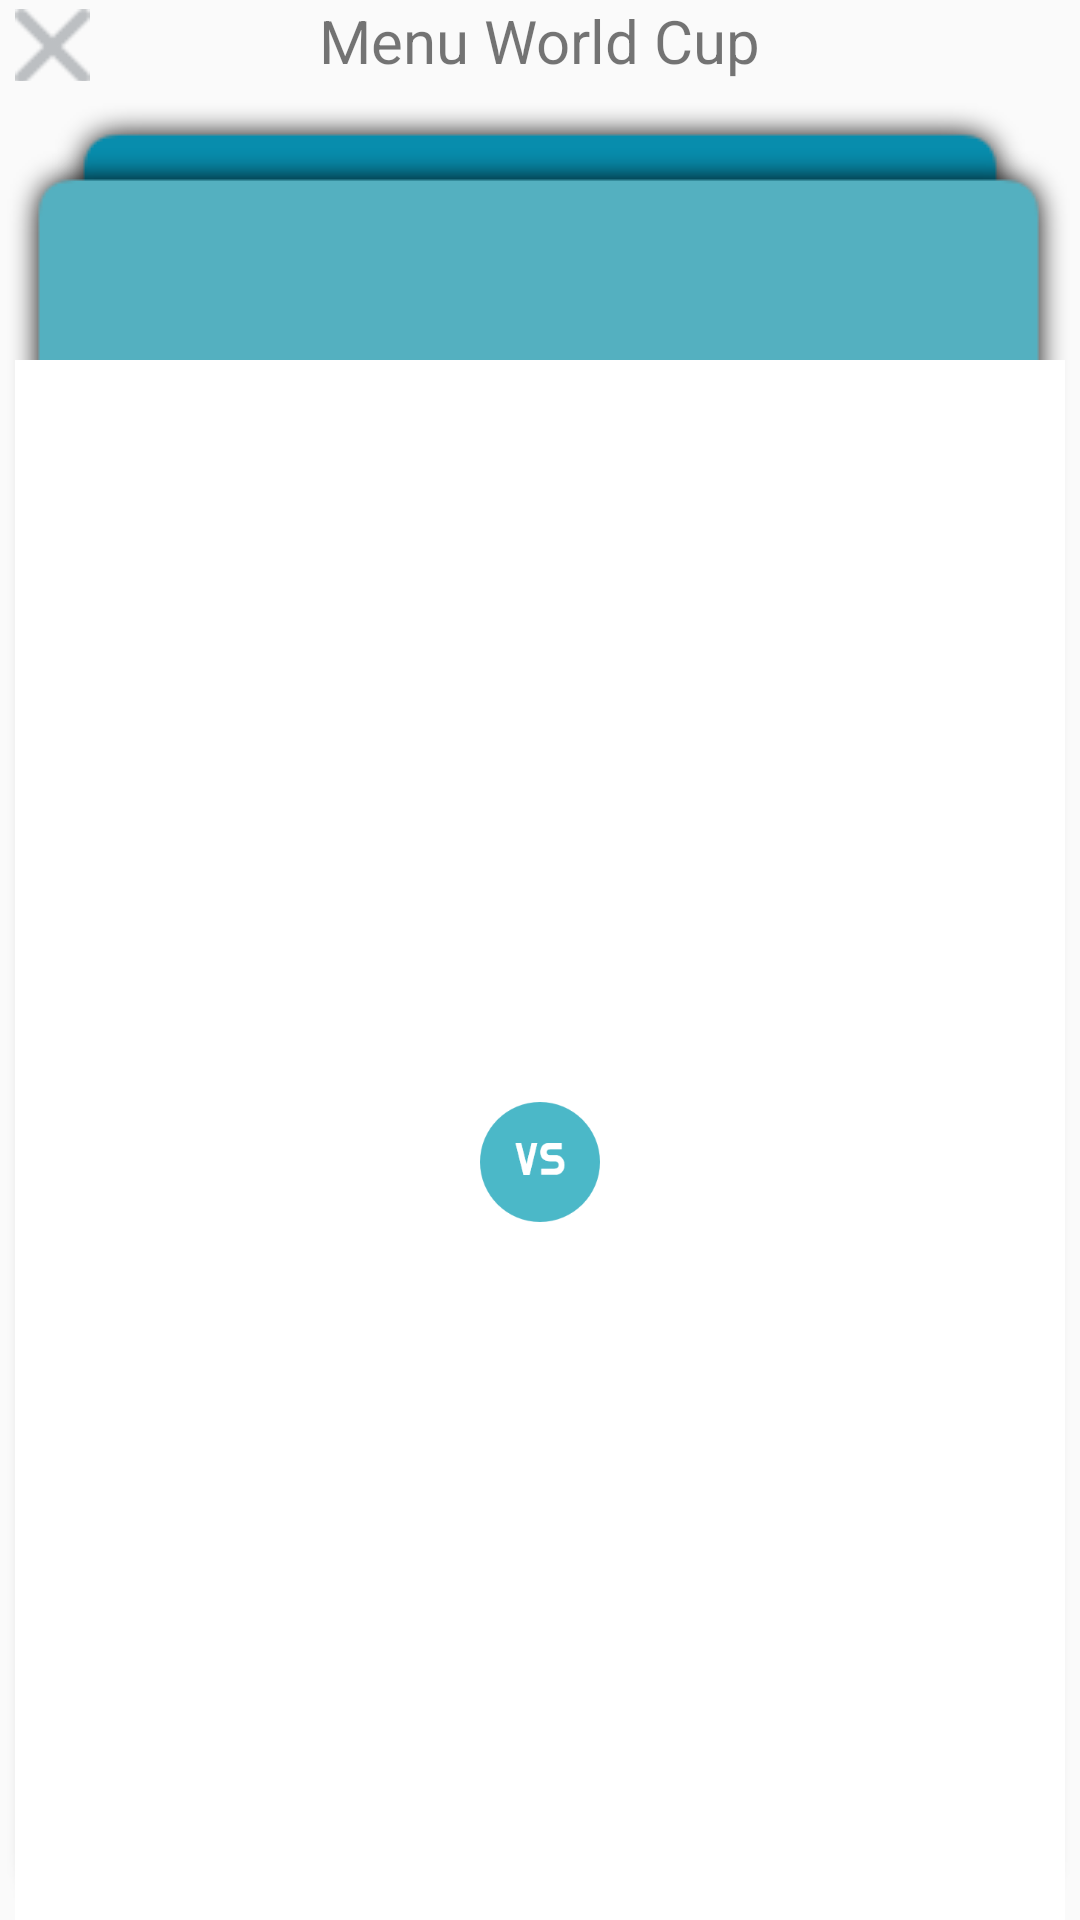

Icons on this 1080px x 1920px Android screen, each with the point to tap as (x=x, y=y):
cancelbtn: (x=52, y=45)
